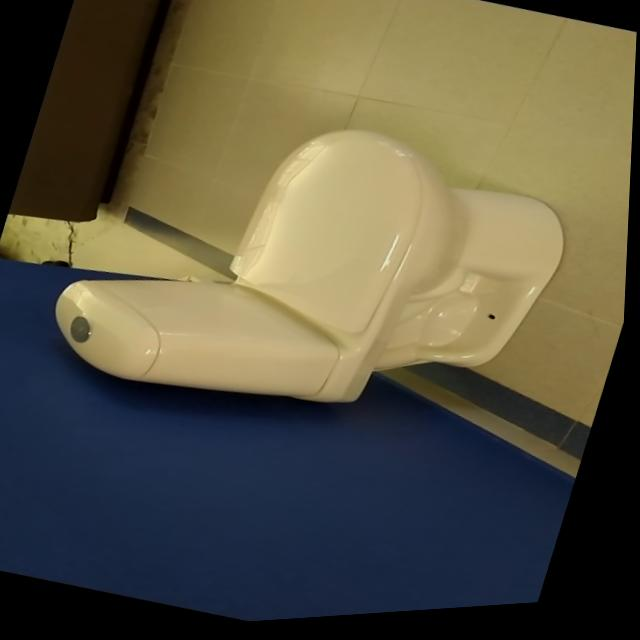toilet: (36, 58, 594, 489)
